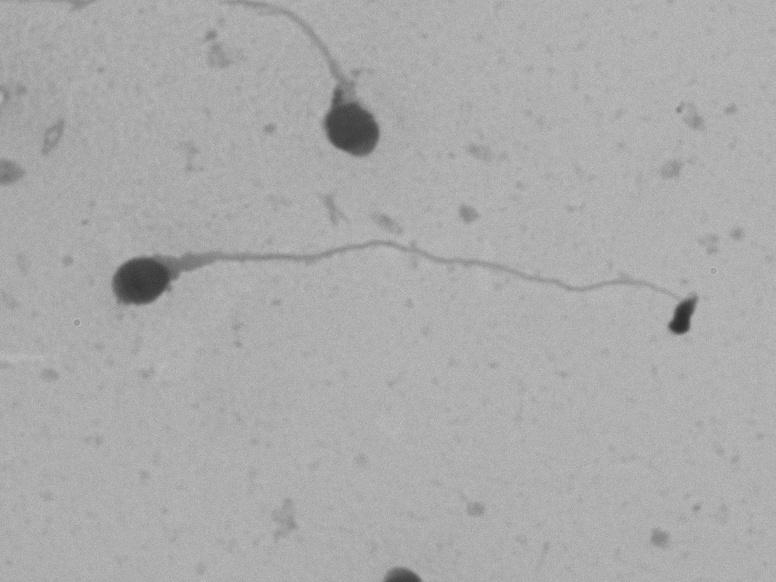Abnormal: (97, 209, 676, 375), (258, 8, 443, 172)
